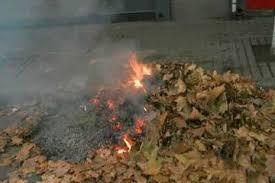fire: (87, 58, 149, 154), (126, 53, 158, 88)
